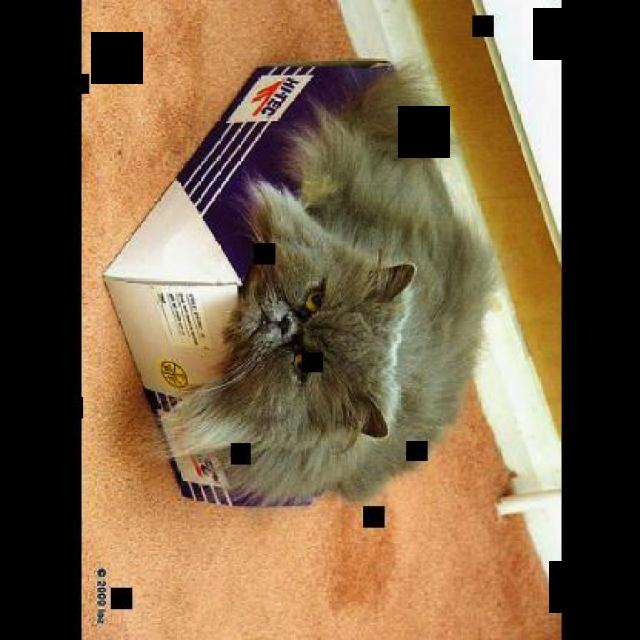unauthorized: (151, 59, 503, 506)
